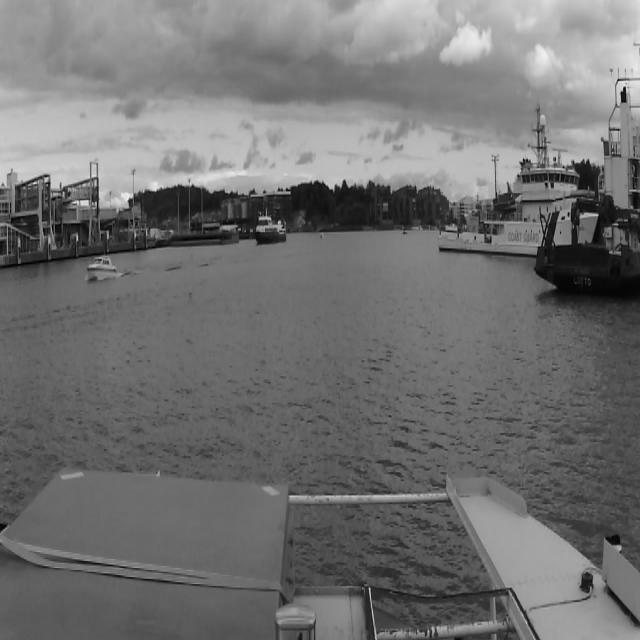buoy: (186, 252, 195, 297)
ship: (431, 107, 606, 257), (253, 208, 287, 249), (86, 250, 118, 282), (318, 230, 324, 238)
